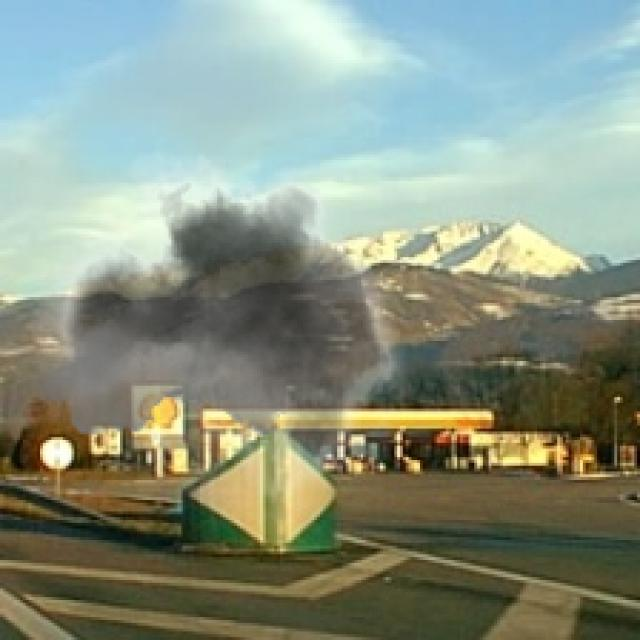smoke: (31, 131, 423, 546)
